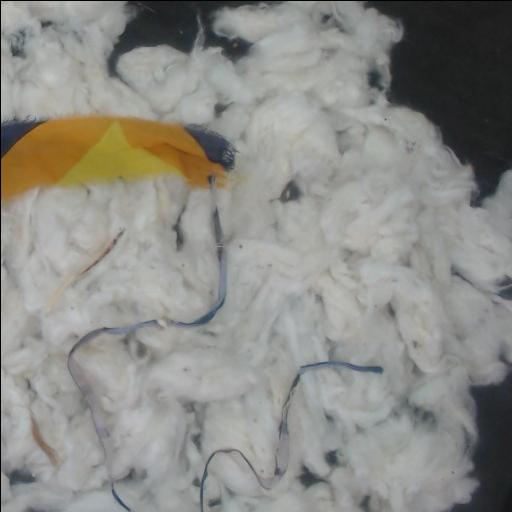cloth: (67, 175, 226, 512), (200, 359, 382, 512), (1, 116, 234, 201)
conveyor belt: (369, 1, 512, 195), (109, 1, 251, 72), (110, 1, 240, 70), (452, 371, 512, 512), (453, 374, 512, 512)
cotton: (1, 1, 512, 512)
